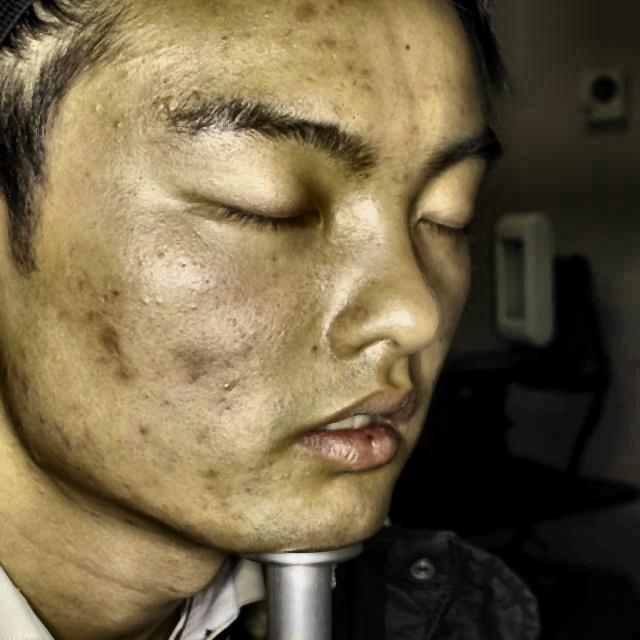comedone: (192, 466, 228, 495), (112, 359, 137, 396), (95, 323, 120, 353)
